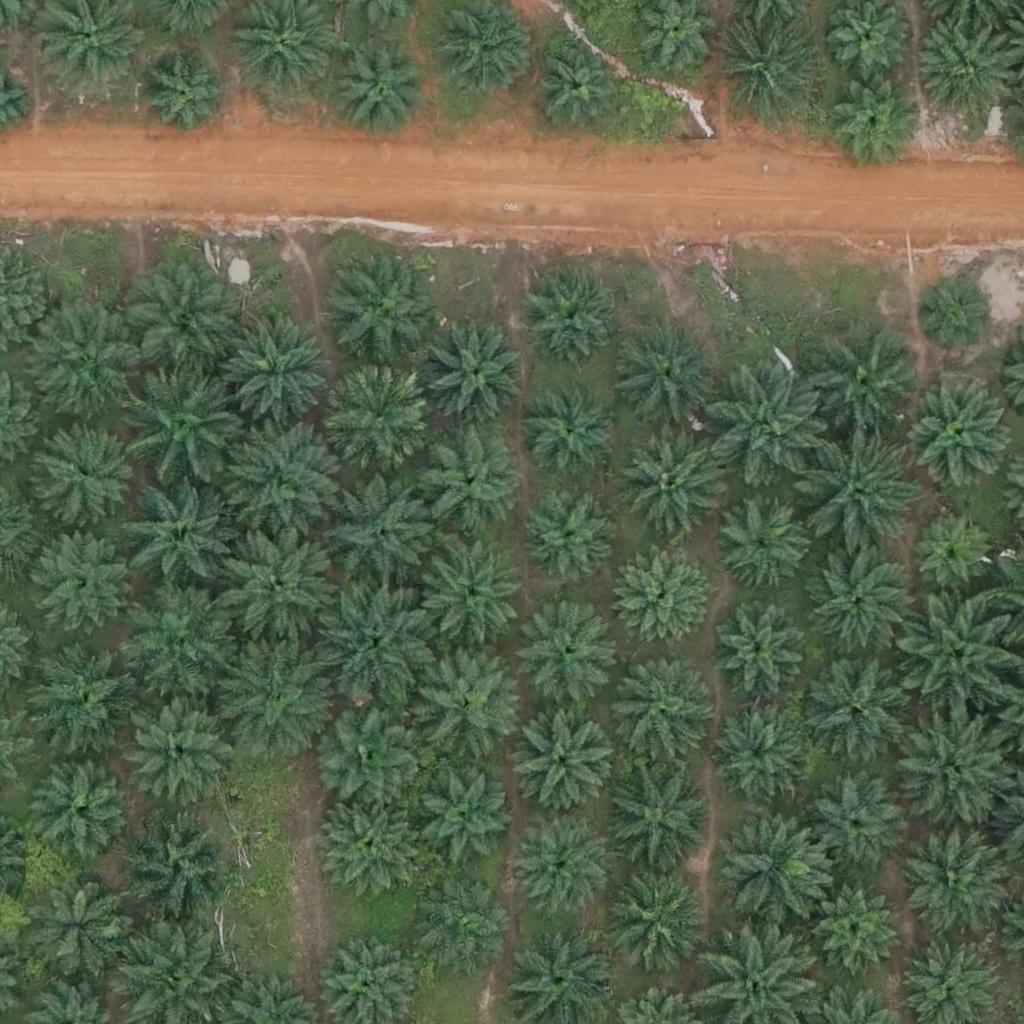Kelapa_Sawit: (898, 711, 1011, 825), (325, 250, 438, 364), (223, 314, 336, 428), (223, 523, 336, 637), (122, 583, 235, 697), (709, 369, 822, 482), (795, 426, 908, 539), (796, 661, 909, 774), (408, 641, 521, 754), (317, 578, 430, 691), (321, 364, 434, 477), (219, 428, 332, 541), (216, 642, 329, 755), (129, 365, 242, 478), (27, 639, 140, 752), (713, 12, 826, 125), (613, 319, 725, 433), (410, 430, 522, 544), (324, 474, 436, 588), (33, 303, 145, 417), (717, 810, 829, 923), (900, 826, 1012, 939), (900, 597, 1012, 710), (903, 376, 1015, 489), (809, 325, 921, 438), (129, 703, 241, 816), (123, 478, 235, 591), (127, 266, 239, 379), (117, 806, 229, 919), (707, 700, 807, 801), (611, 656, 711, 757), (613, 769, 713, 870), (605, 872, 705, 973), (507, 816, 607, 917), (514, 709, 614, 810), (520, 268, 620, 369), (803, 543, 903, 644), (805, 775, 905, 876), (423, 326, 523, 427), (421, 546, 521, 647), (413, 875, 513, 976), (318, 703, 418, 804), (35, 419, 135, 520), (35, 765, 135, 866), (31, 876, 131, 977), (330, 43, 430, 144), (622, 438, 722, 538), (610, 550, 710, 650), (521, 603, 621, 703), (518, 487, 618, 587), (521, 382, 621, 482), (414, 766, 514, 866), (322, 794, 422, 894), (34, 530, 134, 630), (823, 76, 923, 176), (811, 890, 899, 978), (708, 608, 796, 696), (142, 57, 230, 145), (534, 40, 621, 129), (718, 495, 805, 583), (913, 514, 988, 590), (922, 279, 997, 354)
